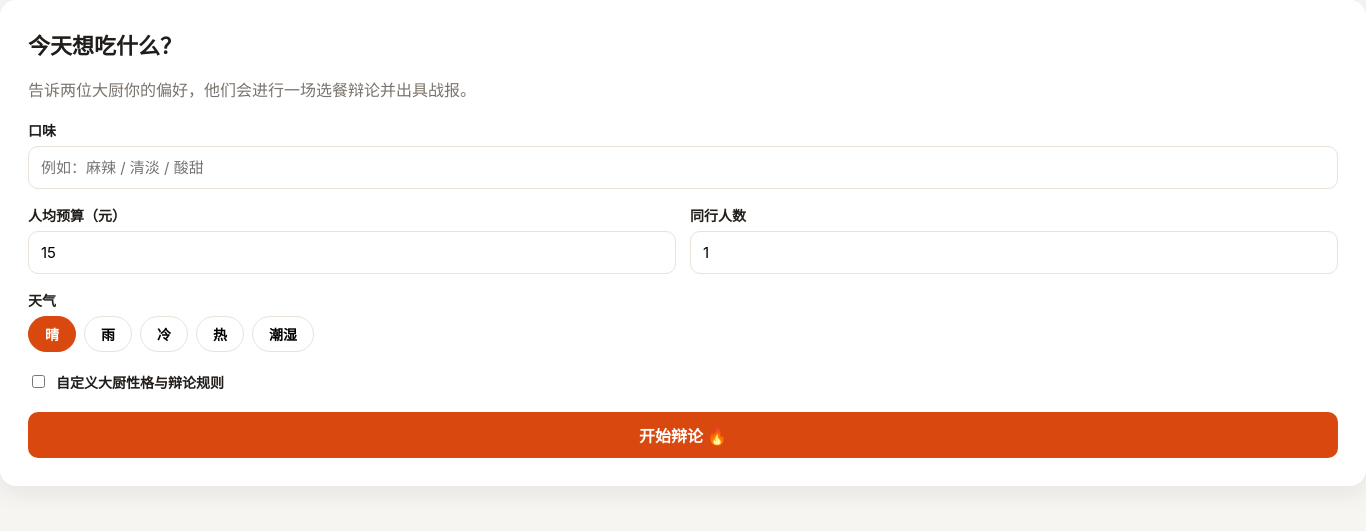
Test: PreferenceForm › shows field-level errors for invalid input
This screenshot has width=1366, height=531.
Click the button "开始辩论 🔥". click: (683, 435)
box: x1=28 y1=412 x2=1338 y2=458
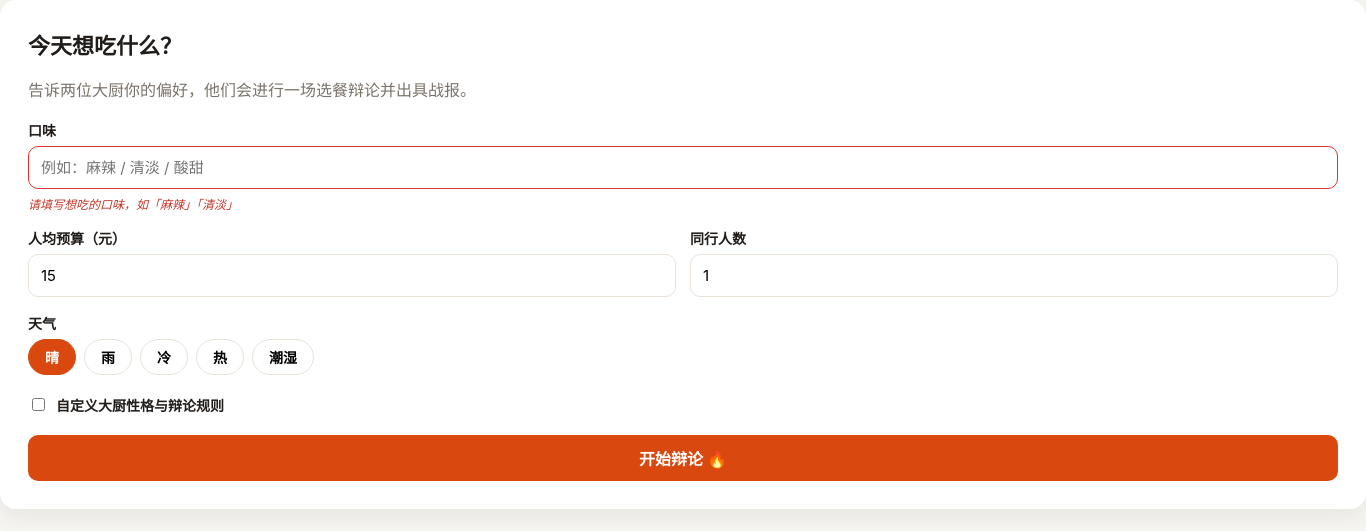
Expected: the text "请填写想吃的口味，如「麻辣」「清淡」" is shown, x1=28 y1=197 x2=238 y2=212
